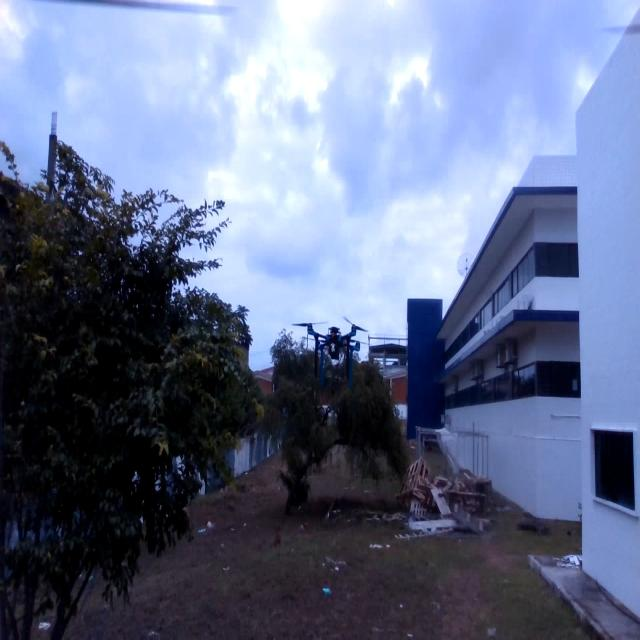-uav-: (288, 304, 377, 397)
